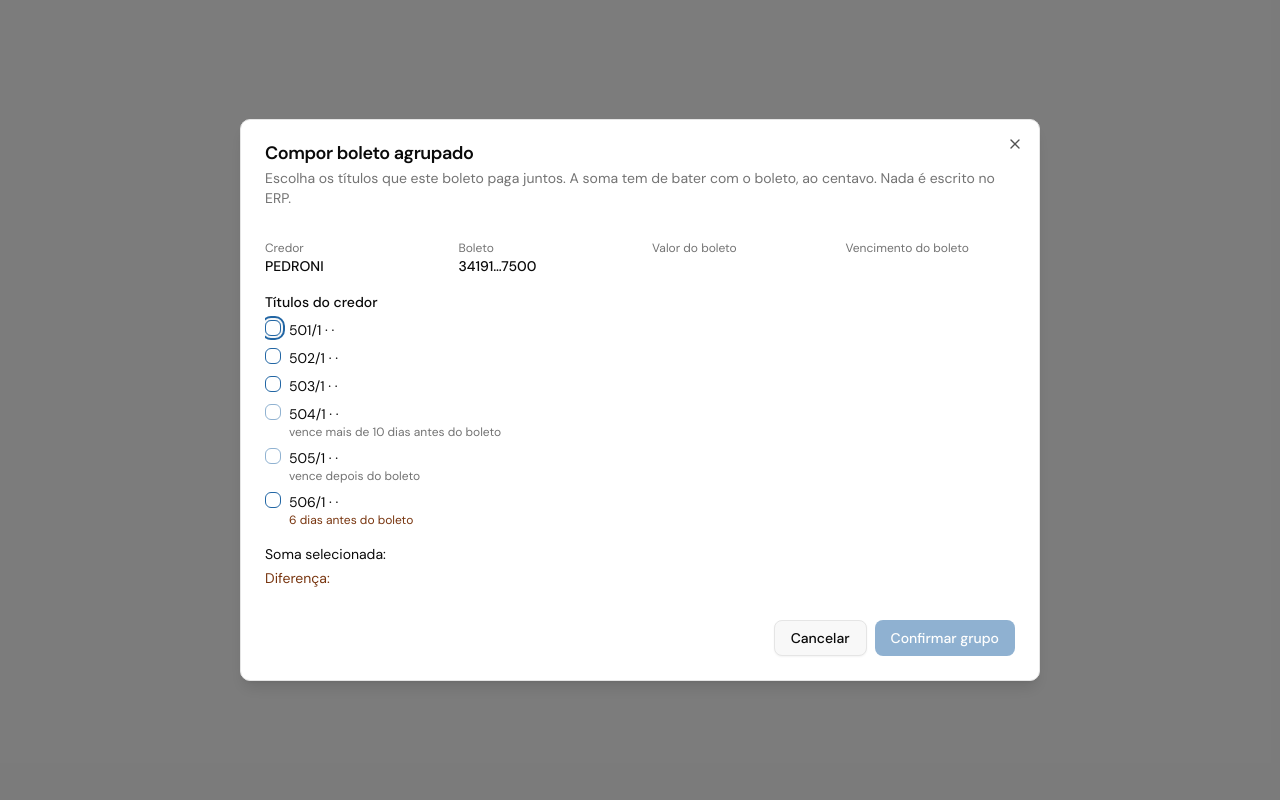
ComporGrupoBoletoDialog › erro do servidor aparece no diálogo, que continua aberto
Click the checkbox named "501/1" next to "501" at (273, 328), box [265, 320, 281, 336]
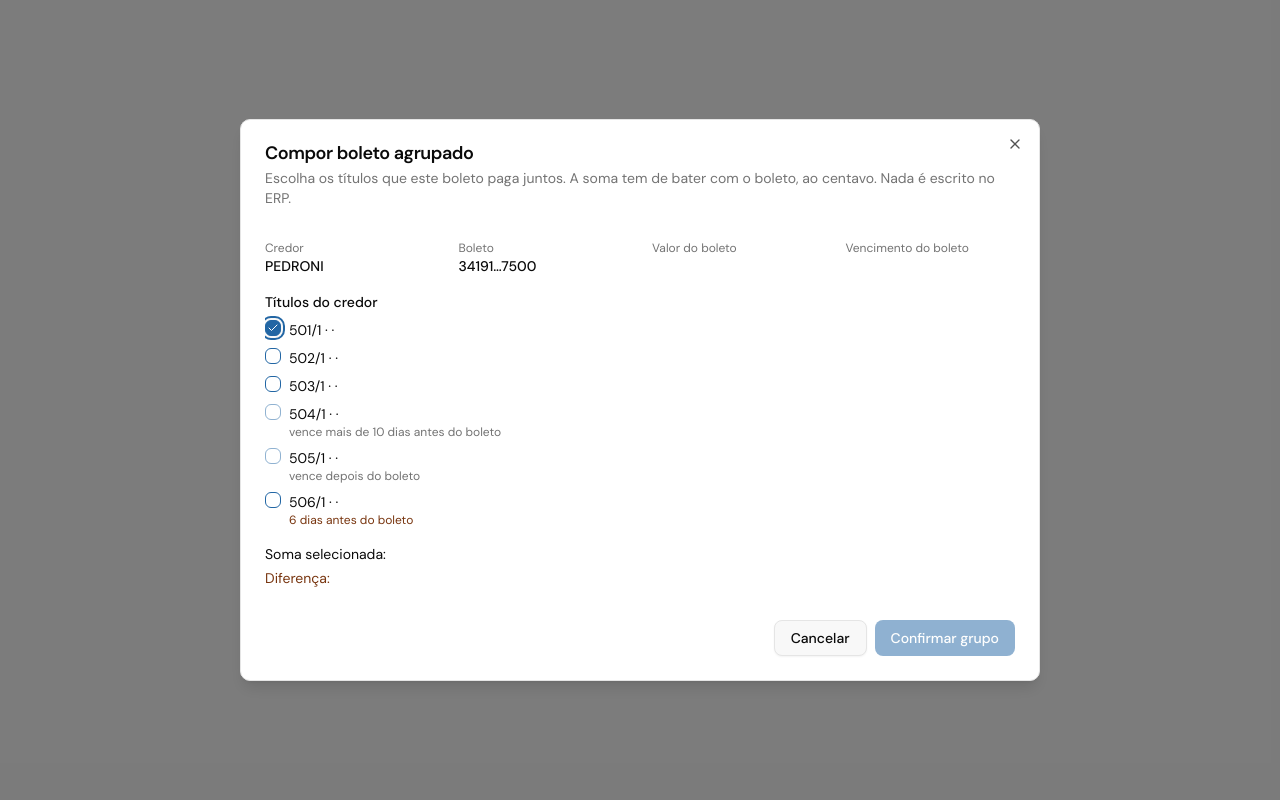
Click the checkbox next to "502" at (273, 356), box [265, 348, 281, 364]
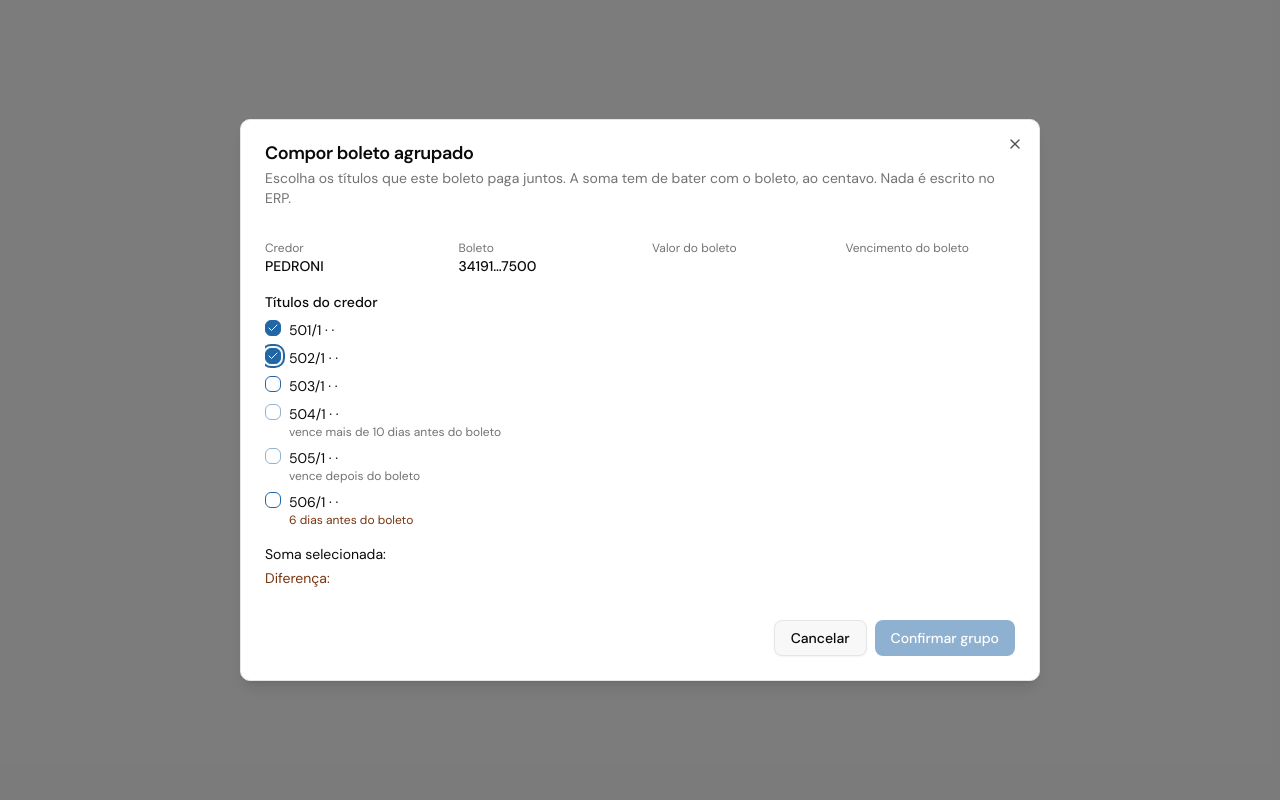
Click the checkbox next to "503" at (273, 384), box [265, 376, 281, 392]
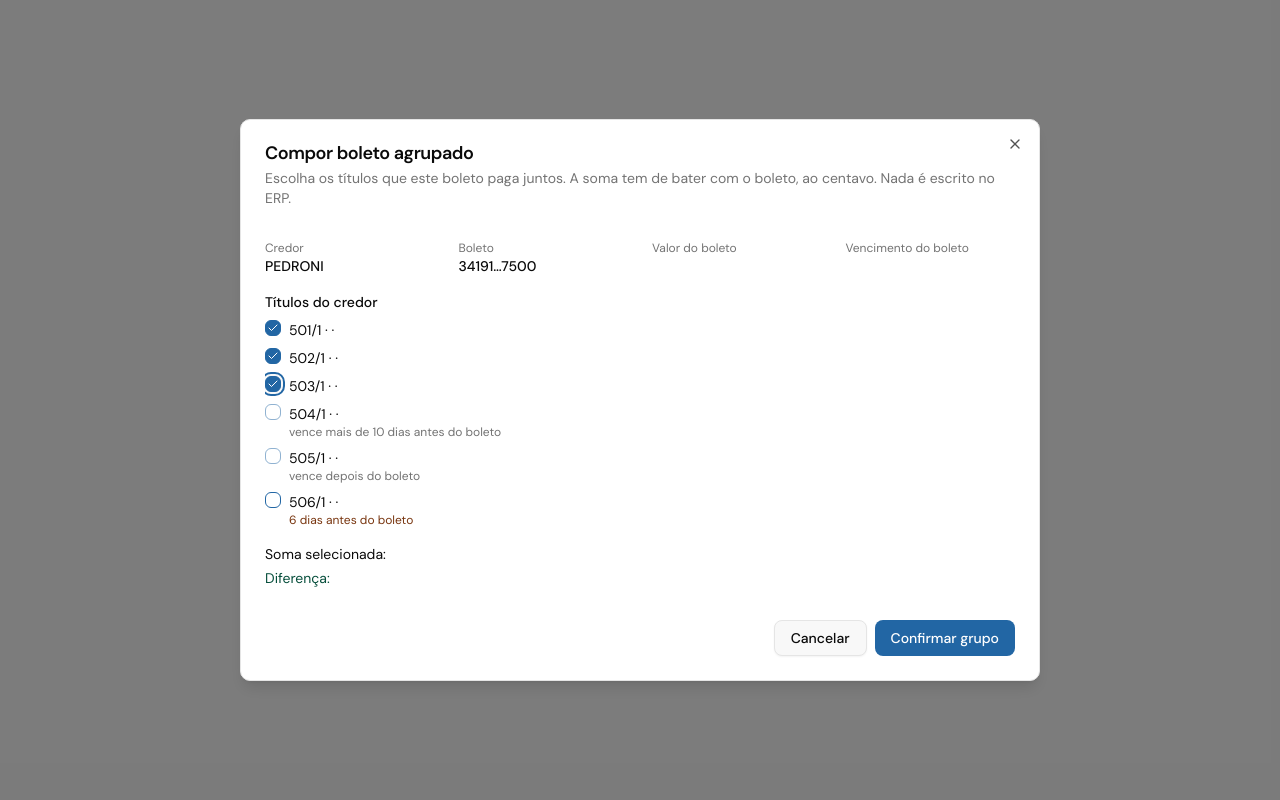
Click the button "Confirmar grupo" at (945, 638), box [875, 620, 1015, 656]
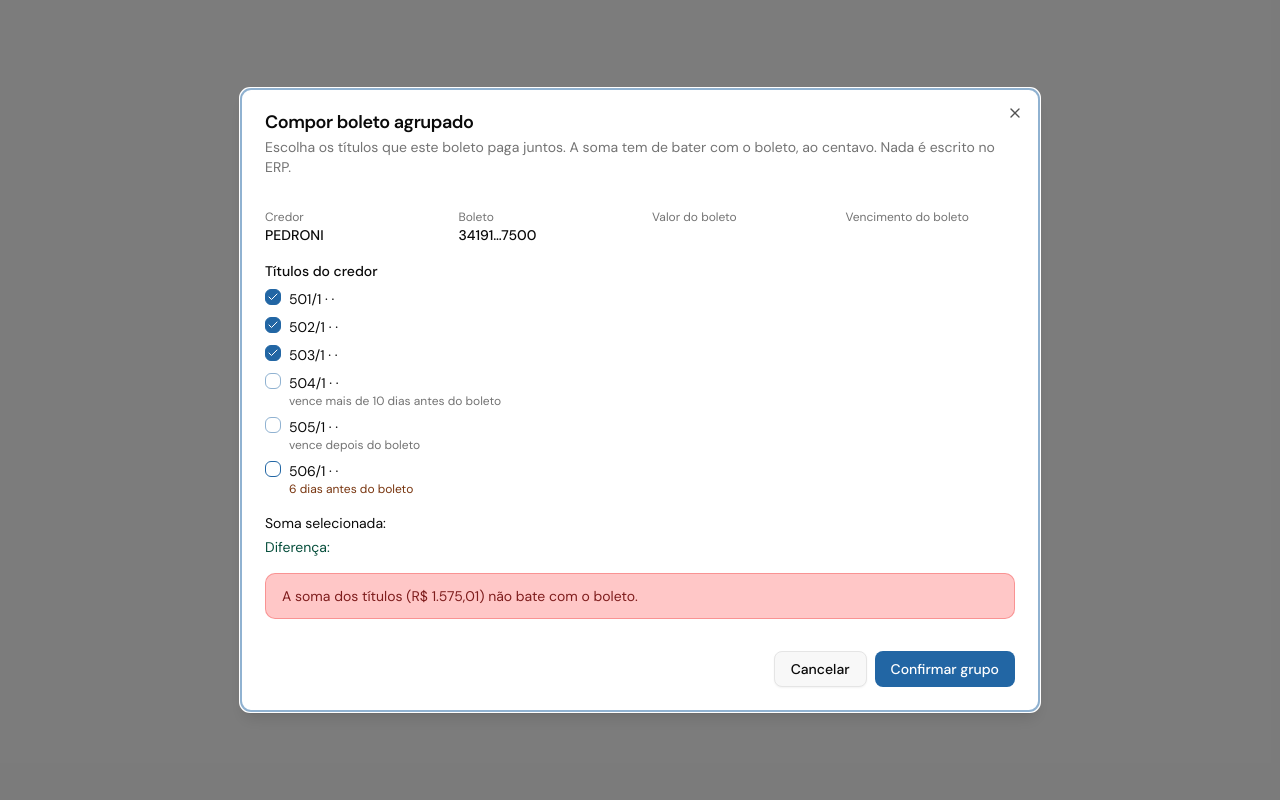
Expected: the dialog "Compor boleto agrupado" is shown, [240, 88, 1040, 712]
Now the message shows "não bate com o boleto", box [282, 587, 638, 605]
